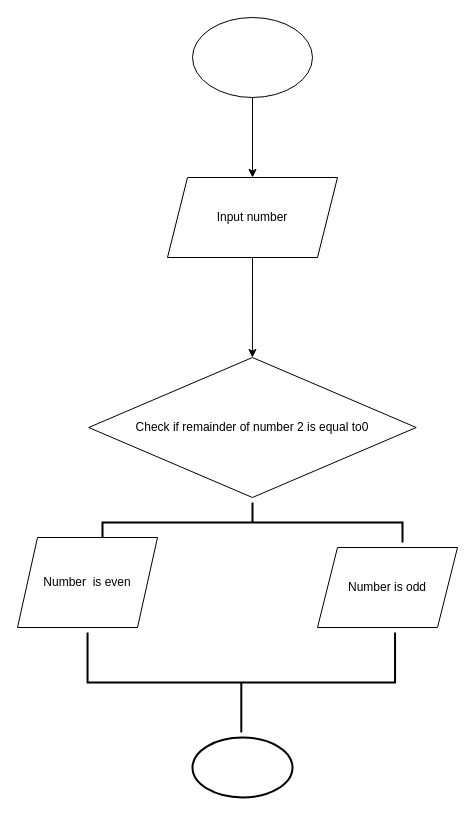
Some shapes in this 475 by 816 pixel diagram are drawn without their labels. Here are the shapes that lost their labels. From the top down, the box of each, then its label:
(192, 16, 312, 98): Start
(191, 736, 293, 798): End
